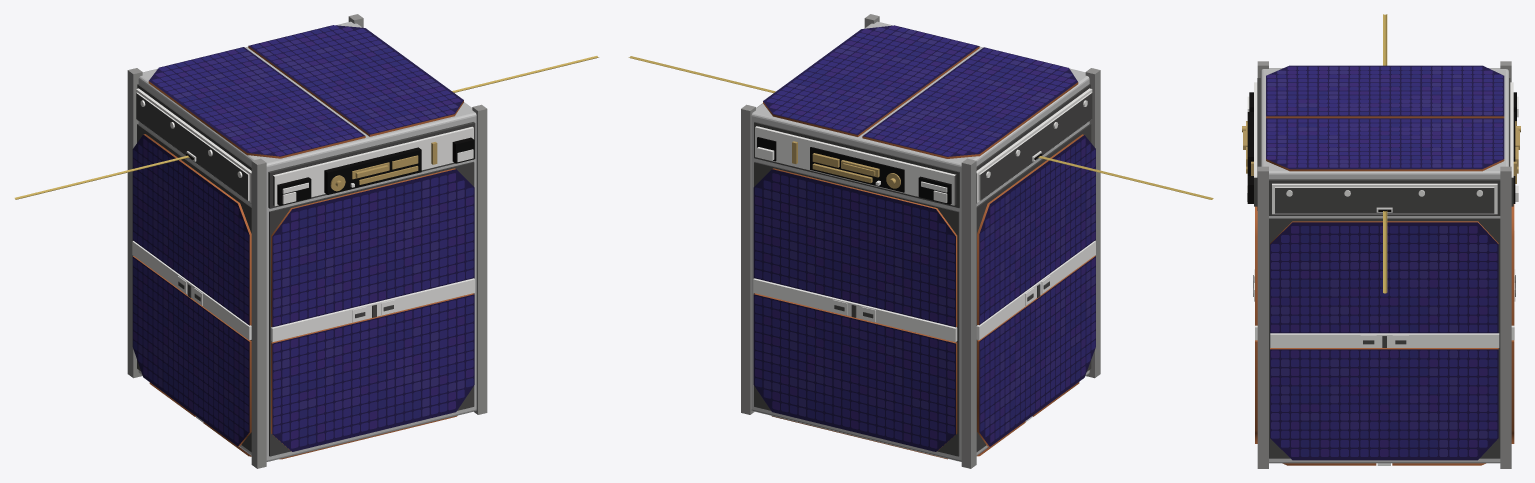
File: 1RU-GenericCubesat.dae
The picture shows the model from 3 angles, left to right: view 1: azimuth 30°, elevation 25°; view 2: azimuth 150°, elevation 25°; view 3: azimuth 270°, elevation 25°; orthographic projection. The views are drawn at different scales.
Visible parts, largest first — view 1: Layer_0 (×16); view 2: Layer_0 (×16); view 3: Layer_0 (×16).
Boxes of the visible parts, bbox=[...] form: Layer_0 (×16): bbox=[14, 14, 598, 468]; Layer_0 (×16): bbox=[628, 14, 1213, 468]; Layer_0 (×16): bbox=[1242, 14, 1520, 468].
Size of the model in its own units: 5.19 by 2.6 by 2.2.
